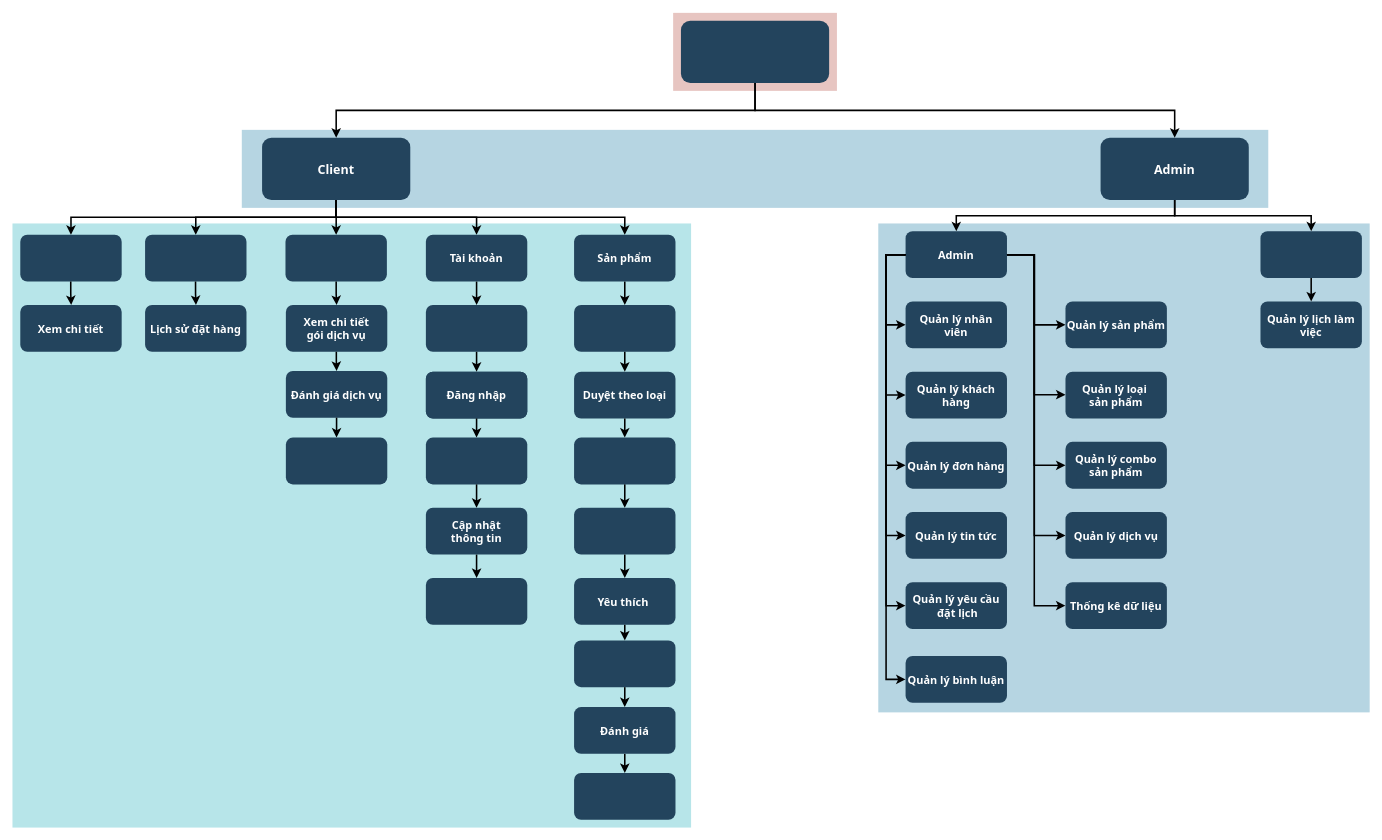
Some shapes in this 1382 by 840 pixel diagram are drawn without their labels. Each missing label, with the centre of its shape:
30Slice: pixel 755 51
Bình luận: pixel 624 796
Chi tiết: pixel 624 460
Combo sản phẩm: pixel 70 257
Lịch sử đặt lịch: pixel 336 460
Quên mật khẩu: pixel 476 601
Stylelist: pixel 1310 254
Thanh toán: pixel 624 663
Thêm vào giỏ: pixel 624 530
Tìm kiếm: pixel 624 328
Đăng ký: pixel 476 328
Đơn hàng: pixel 195 257
Đặt lịch: pixel 335 257
Đổi mật khẩu: pixel 476 460
